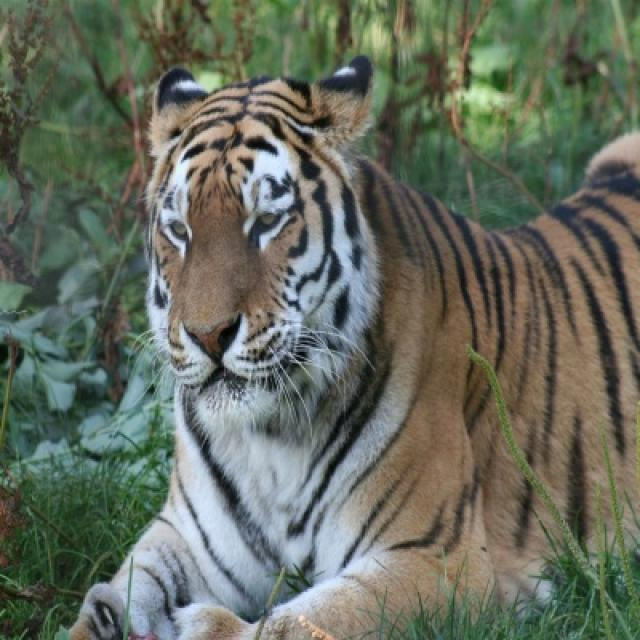Tiger: (70, 46, 638, 637)
